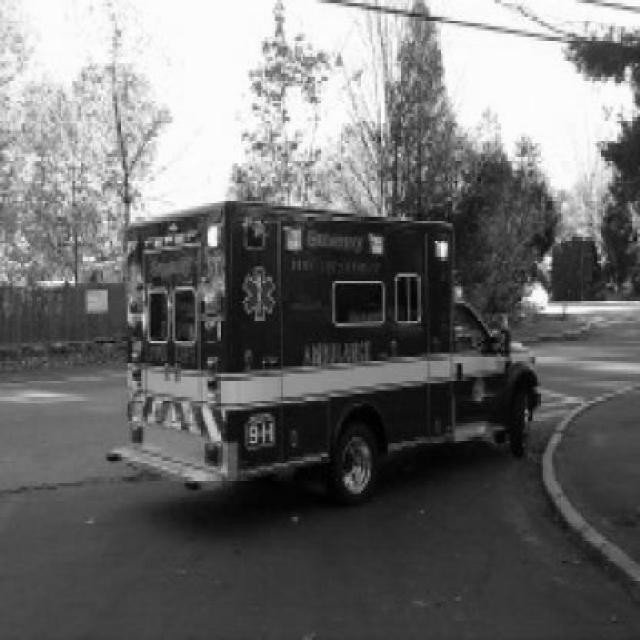Ambulance: (111, 201, 541, 507)
